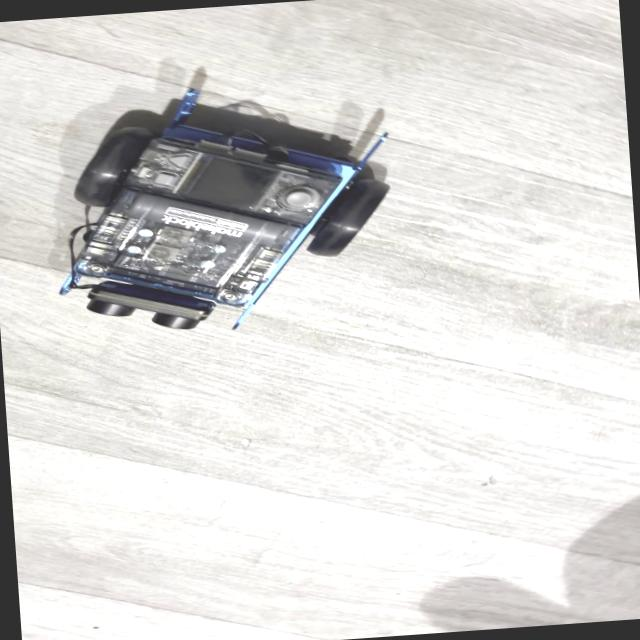mbot-detection: (36, 60, 409, 345)
